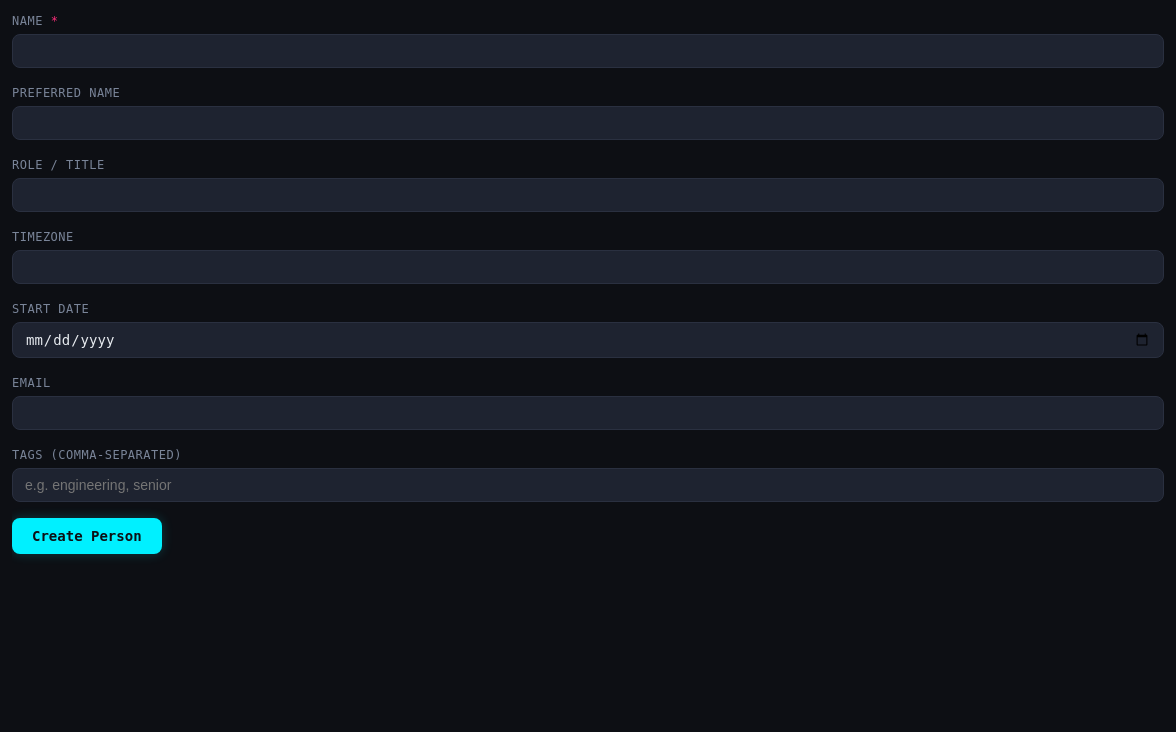
Test: PersonForm › should clear name error when user starts typing
This screenshot has width=1176, height=732.
Click the button "Create Person" at (87, 536), box [12,518,162,554]
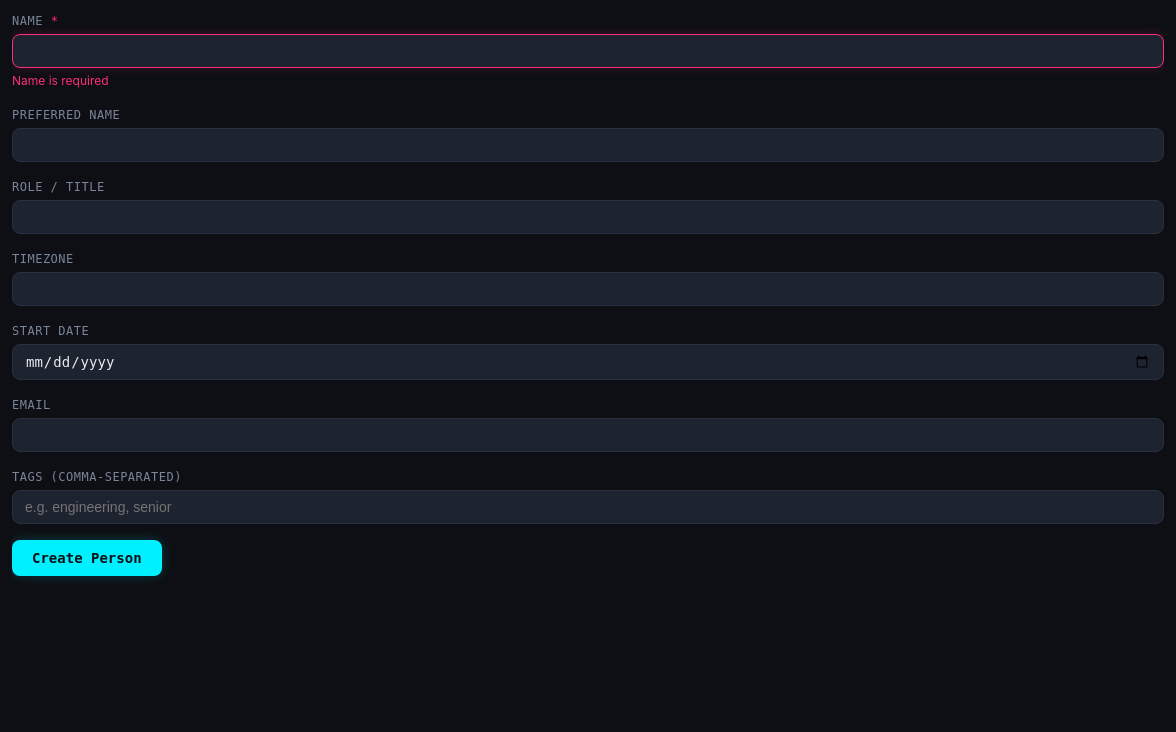
Result: the text "Name is required" is shown at [12,73,109,88]
Type "J" into the field labelled "Name *" at (588, 51), box [12,34,1164,68]
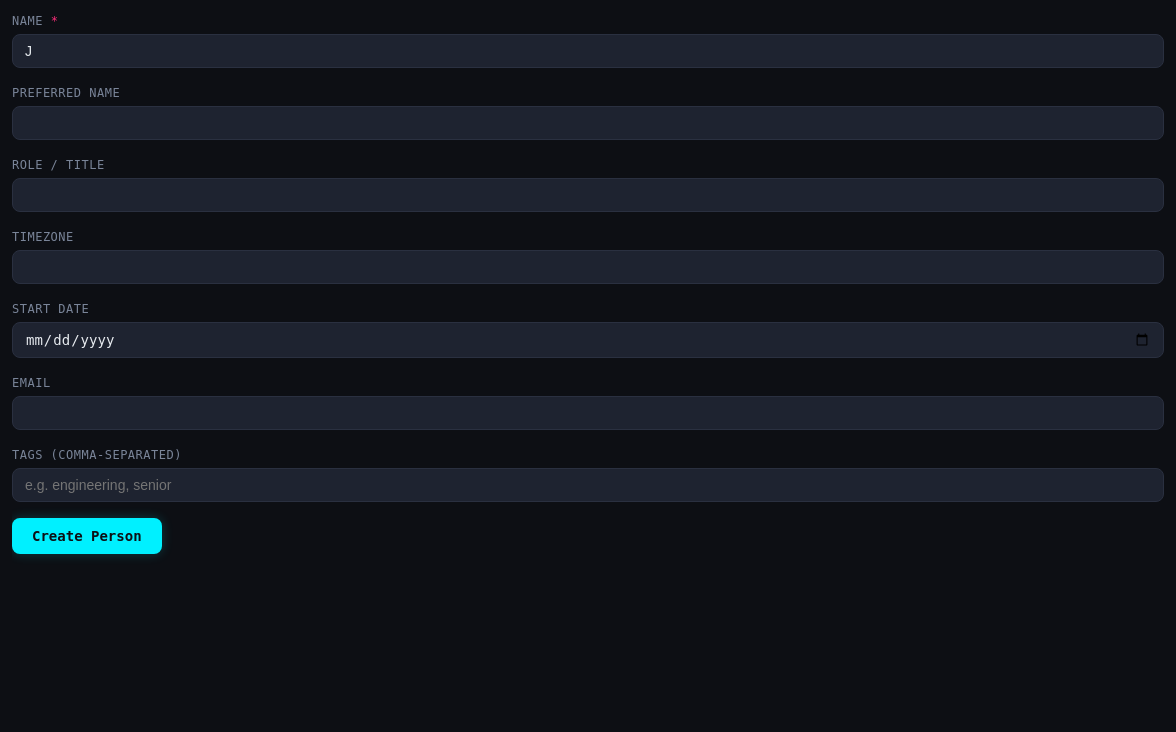
Result: the text with test id "name-error" is gone
